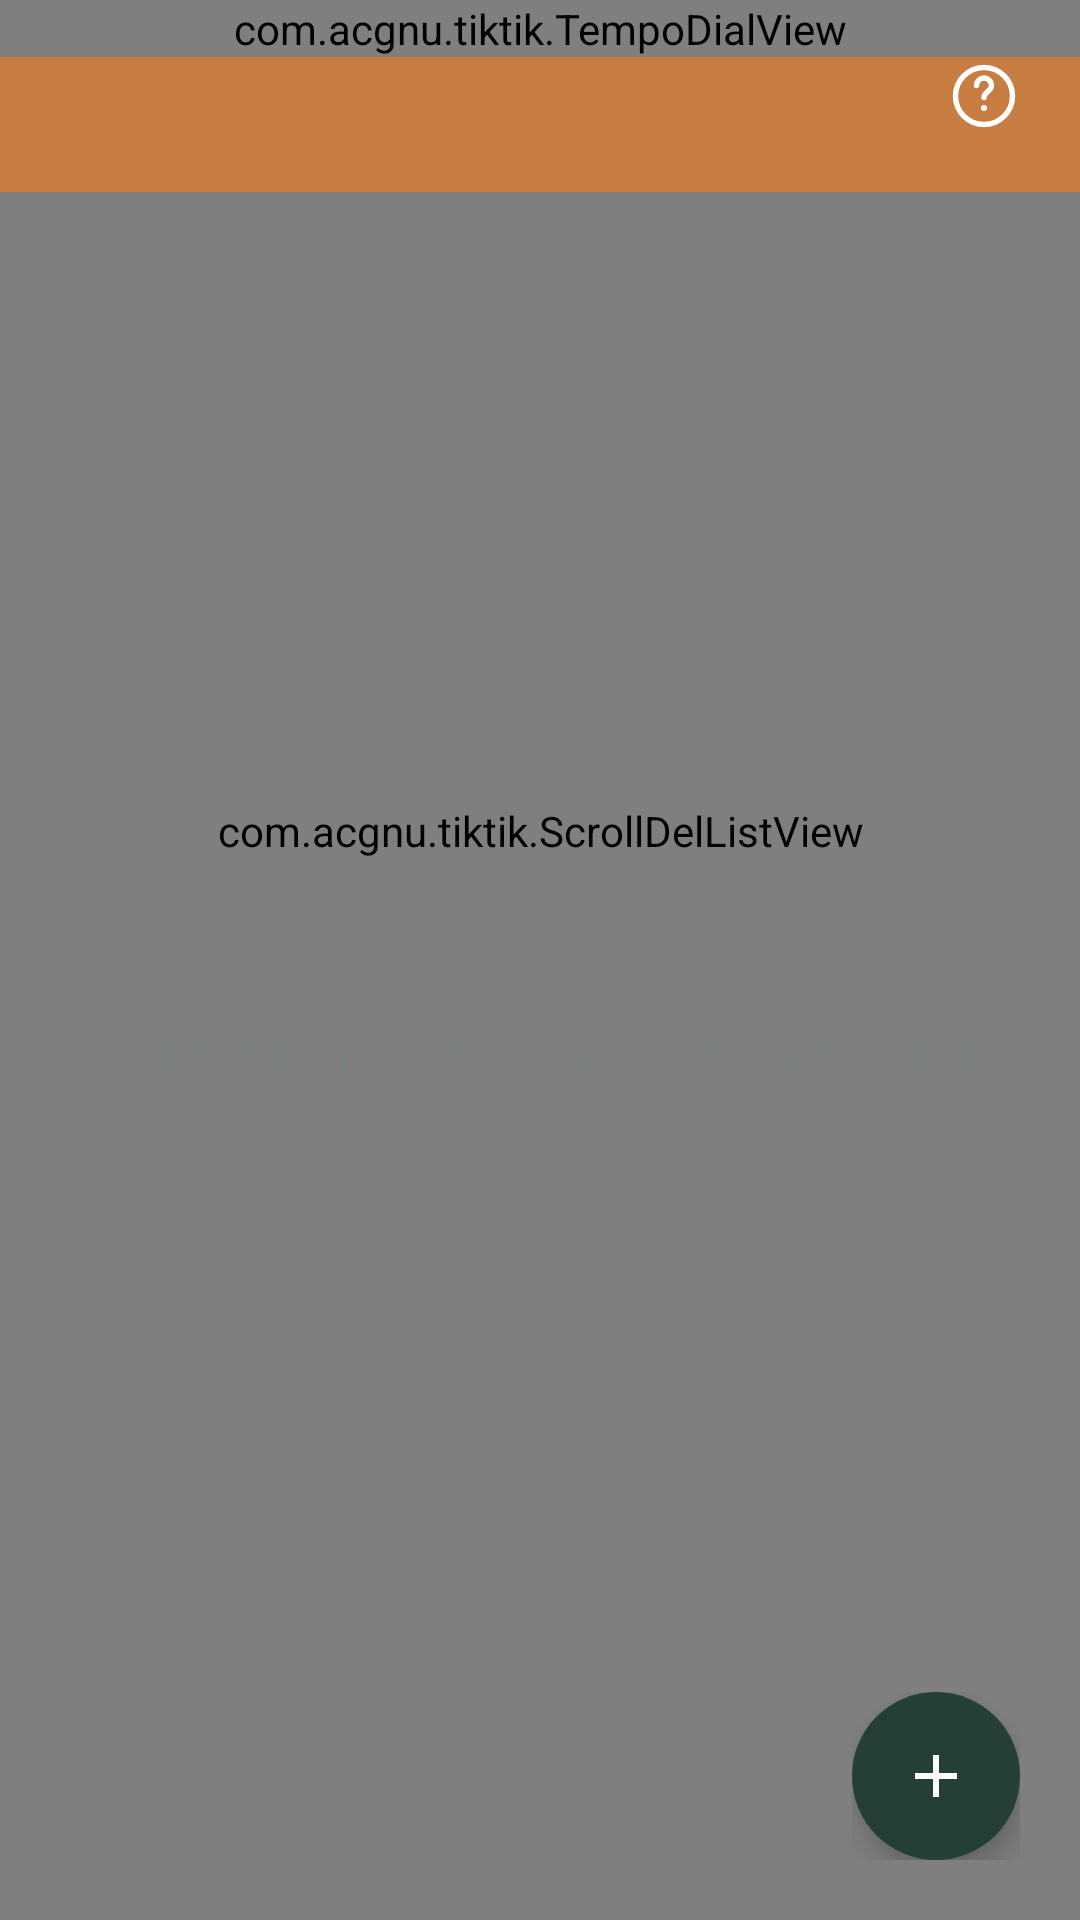

Where to tap for icons on this 1080 × 1920 app screen, as point (x, y):
操作说明: point (984, 76)
新增节拍: point (936, 1776)
